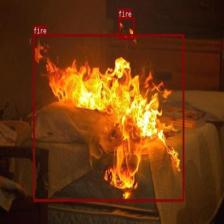fire: (33, 33, 184, 201), (118, 17, 134, 39)
